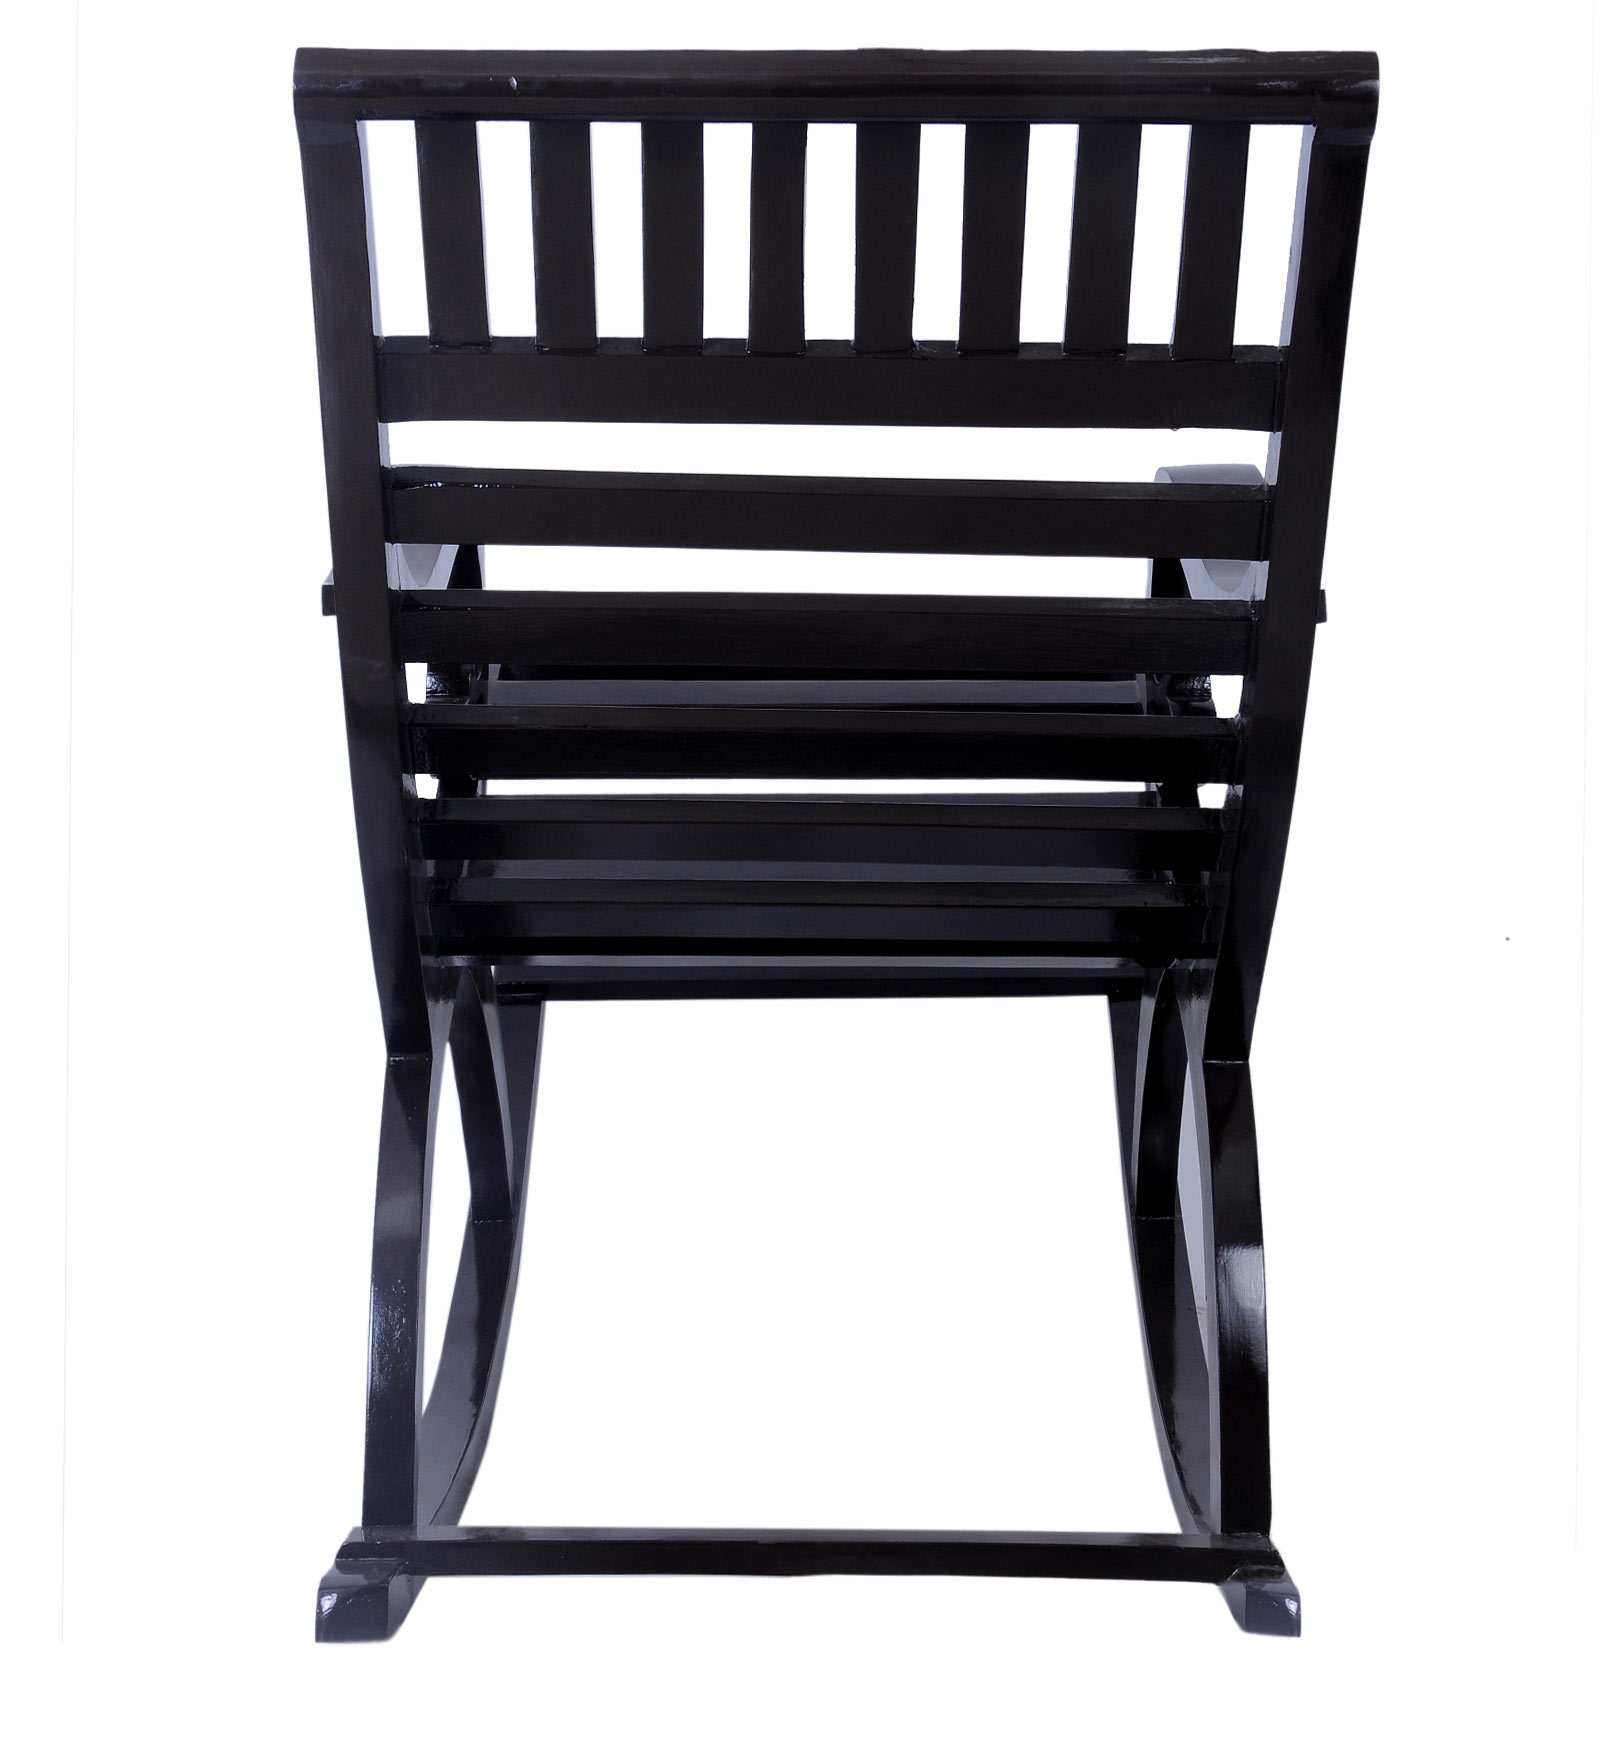Teak Wood Rocking Chair in Walnut Finish by Furniease: (227, 31, 1447, 1755)
